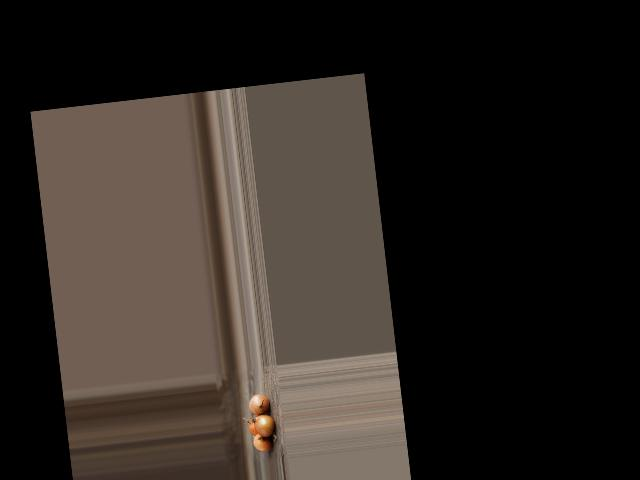onion: (247, 417, 263, 438)
